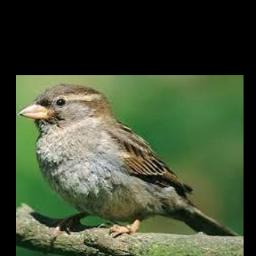Sparrow: (18, 84, 239, 241)
